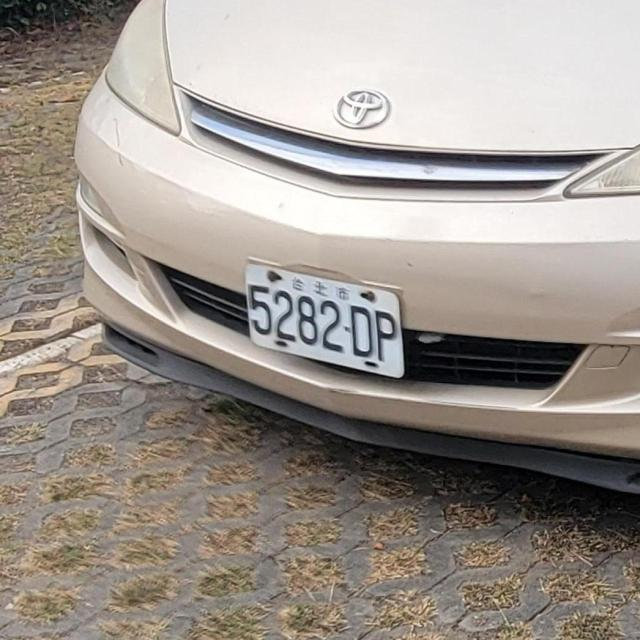W: (230, 246, 418, 389)
